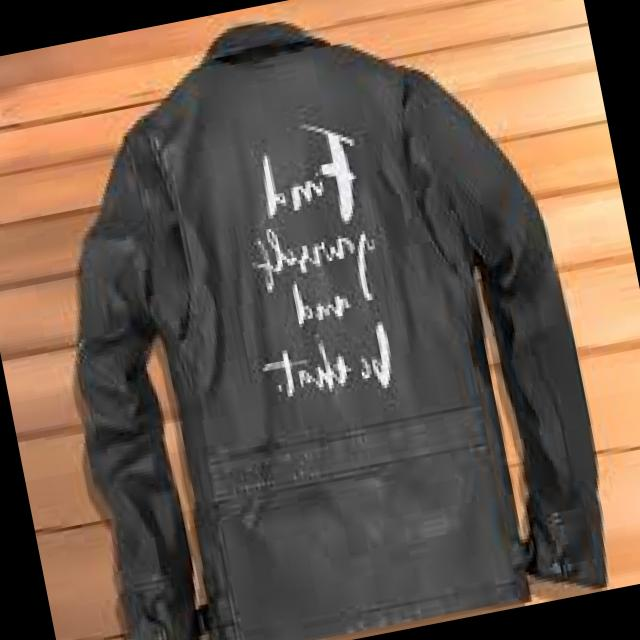Jacket: (55, 4, 589, 640)
